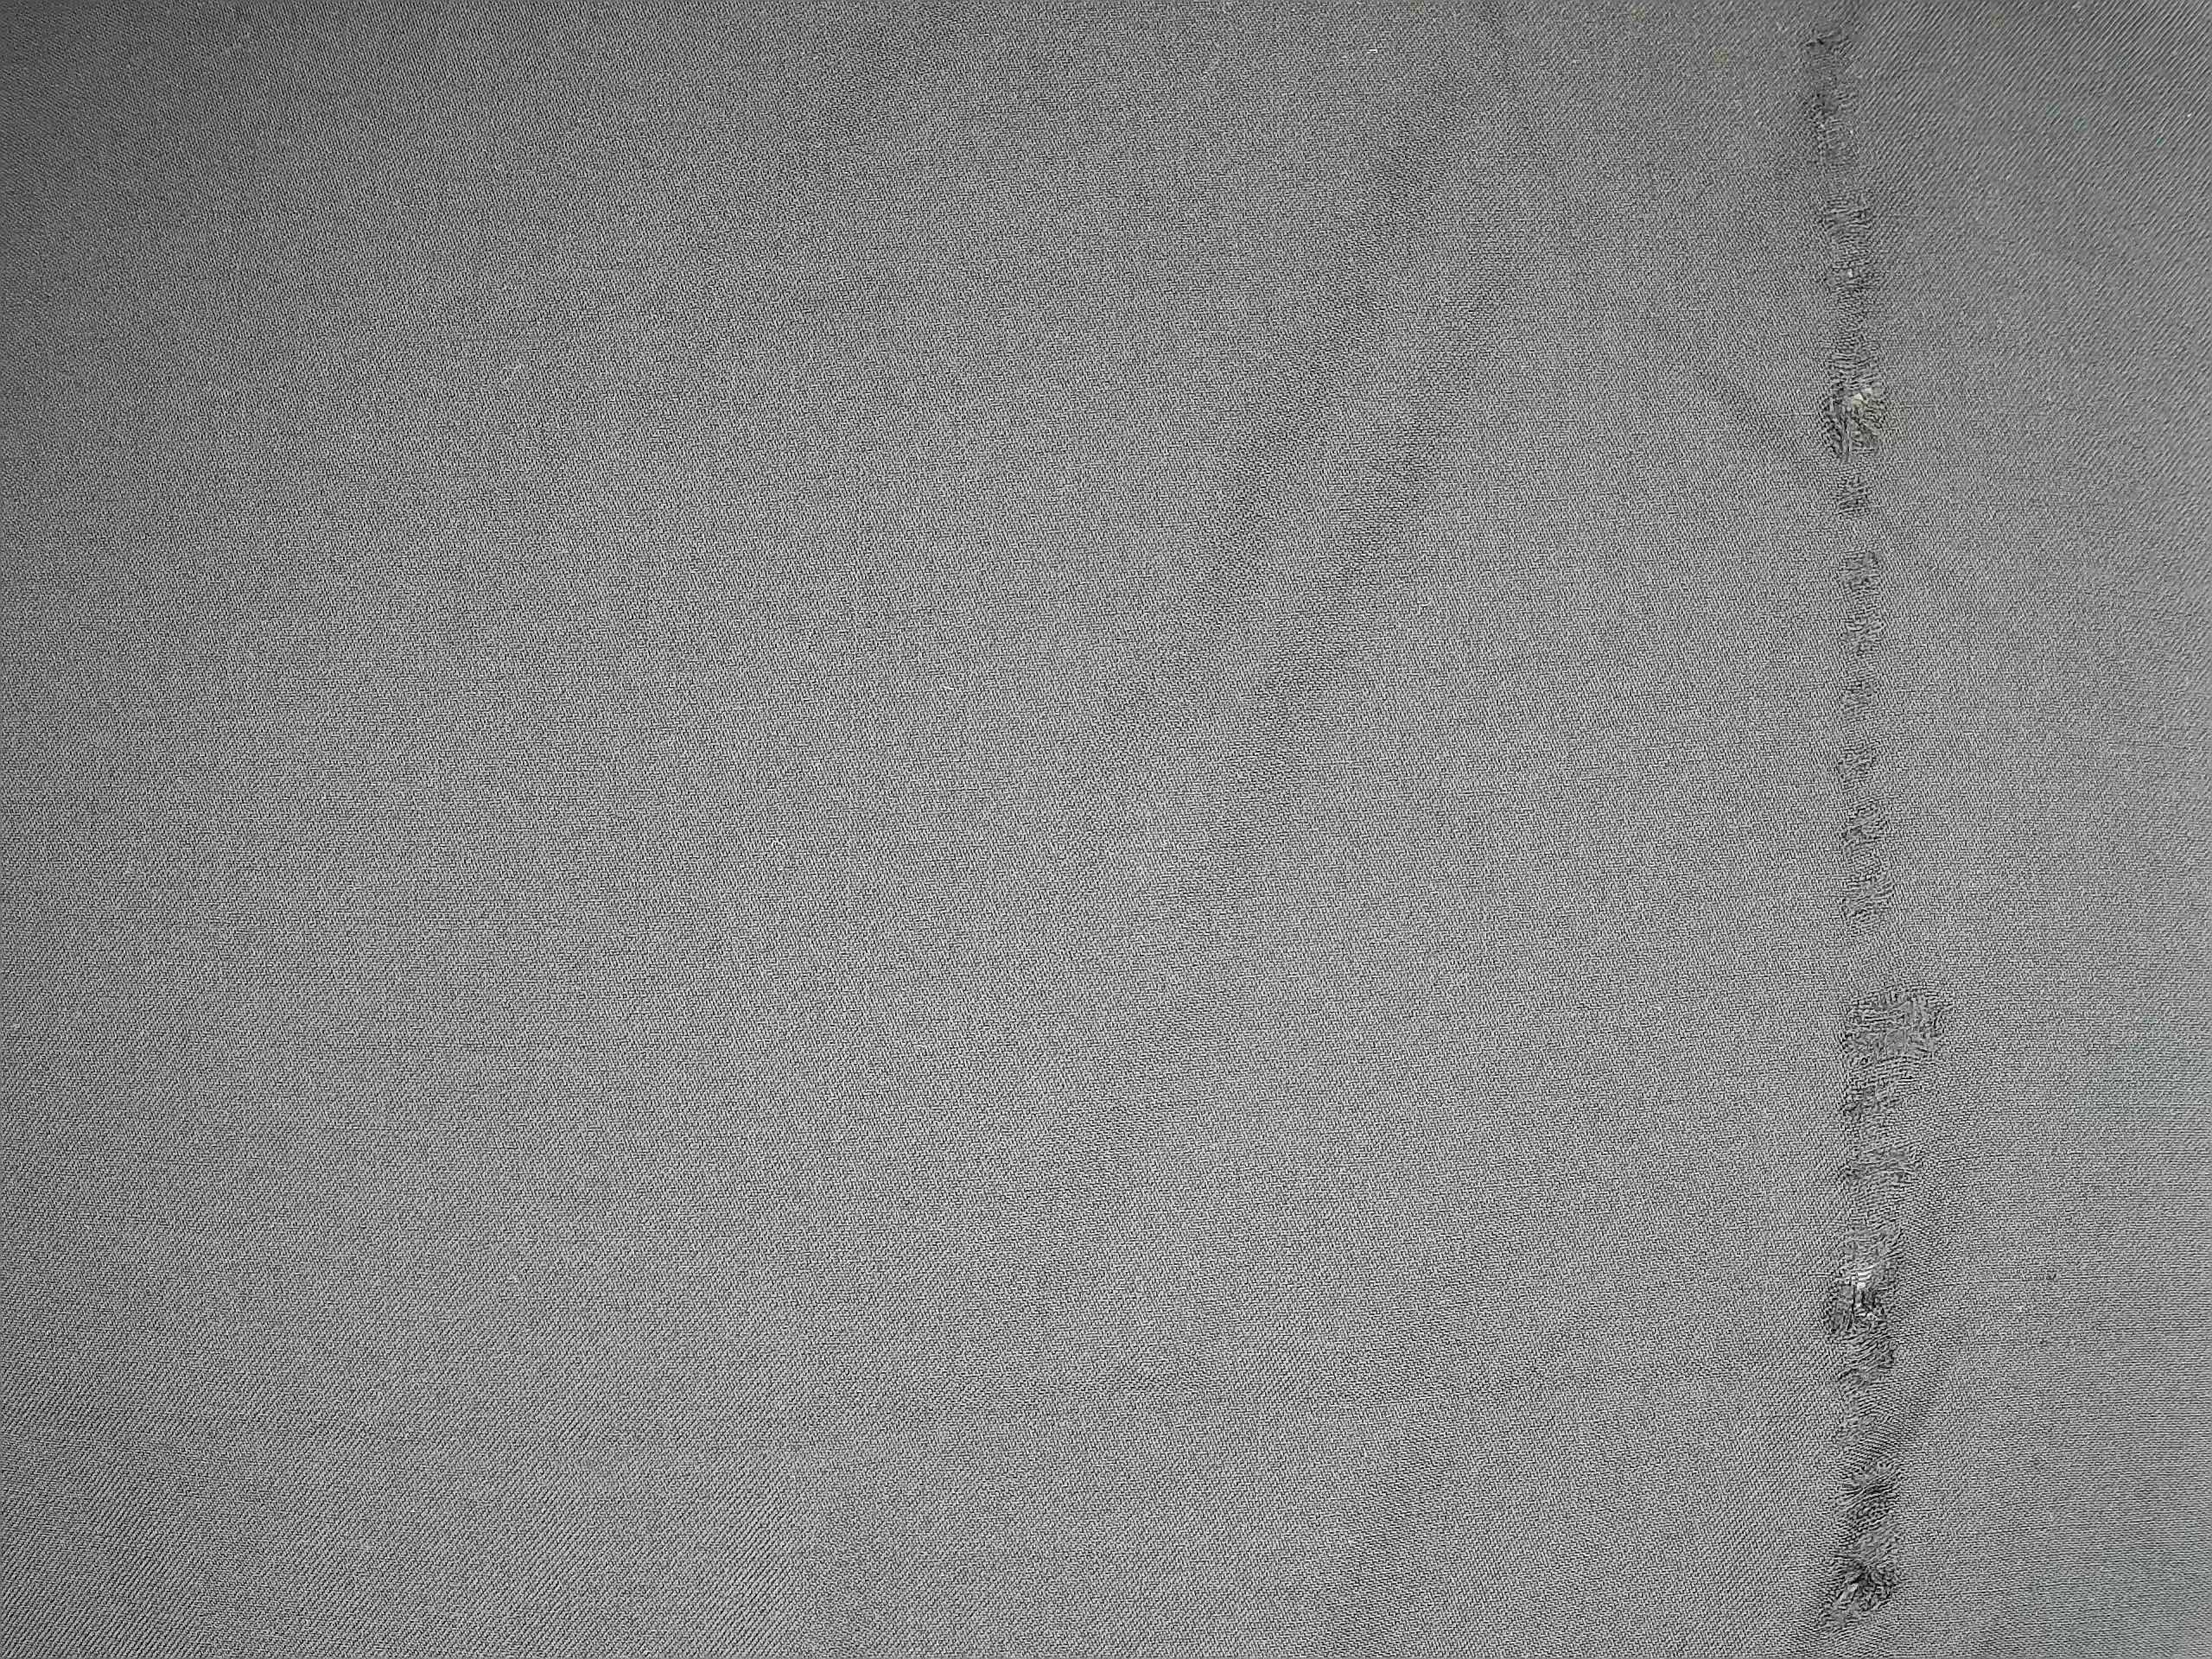puncture-hole: (1789, 3, 1958, 1640)
